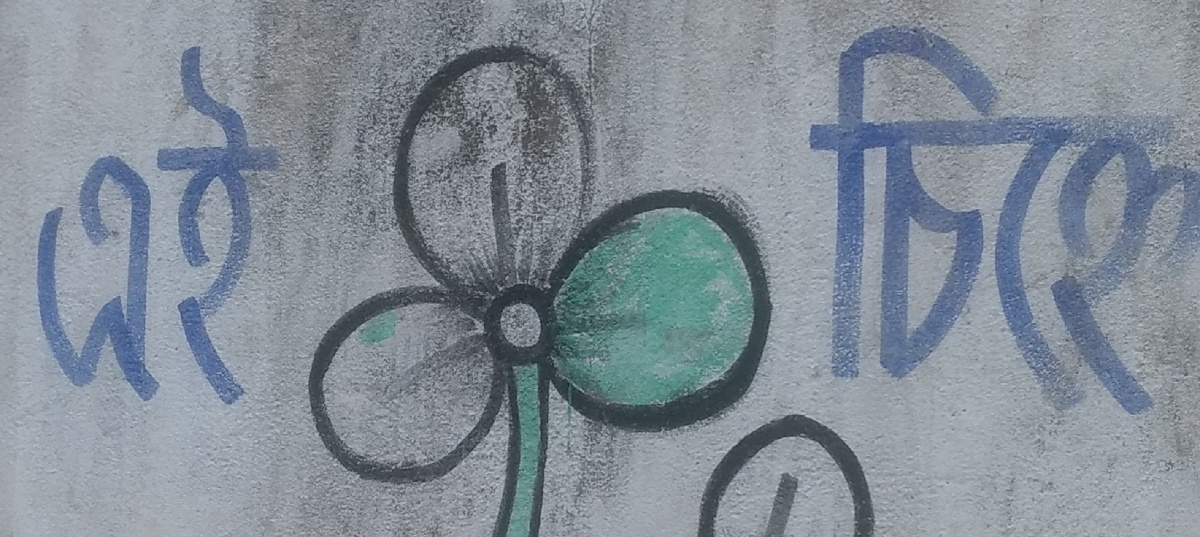text: (817, 19, 832, 422), (833, 19, 848, 422), (849, 19, 864, 422), (865, 19, 880, 422), (881, 19, 896, 422), (897, 19, 912, 422), (913, 19, 928, 422), (929, 19, 944, 422), (945, 19, 960, 422), (961, 19, 976, 422), (977, 19, 992, 422), (993, 19, 1008, 422), (1009, 19, 1024, 422), (1025, 19, 1040, 422), (1041, 19, 1056, 422), (1057, 19, 1072, 422), (1073, 19, 1088, 422), (1089, 19, 1104, 422), (1105, 19, 1120, 422), (1121, 19, 1136, 422), (1137, 19, 1152, 422), (1153, 19, 1168, 422), (1169, 19, 1184, 422), (33, 37, 48, 425), (49, 37, 64, 425), (65, 37, 80, 425), (81, 37, 96, 425), (97, 37, 112, 425), (113, 37, 128, 425), (129, 37, 144, 425), (145, 37, 160, 425), (161, 37, 176, 425), (177, 37, 192, 425), (193, 37, 208, 425), (209, 37, 224, 425), (225, 37, 240, 425), (241, 37, 256, 425), (257, 37, 272, 425), (273, 37, 288, 425), (1185, 19, 1199, 422), (807, 19, 816, 422), (769, 395, 784, 535), (785, 395, 800, 535), (801, 395, 816, 535), (817, 395, 832, 535), (833, 395, 848, 535), (849, 395, 864, 535), (865, 395, 880, 535), (27, 37, 32, 425), (757, 395, 768, 535), (881, 395, 887, 535), (289, 37, 290, 425)
